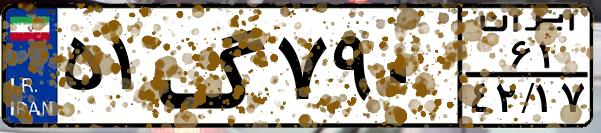0: (385, 28, 445, 110)
1: (110, 28, 156, 98), (537, 27, 568, 80), (535, 70, 560, 125)
2: (495, 70, 520, 125)
4: (470, 70, 495, 125)
5: (57, 26, 110, 100)
6: (508, 27, 537, 80)
7: (270, 28, 330, 110), (560, 70, 590, 125)
9: (330, 28, 385, 110)
گ: (156, 12, 270, 120)
